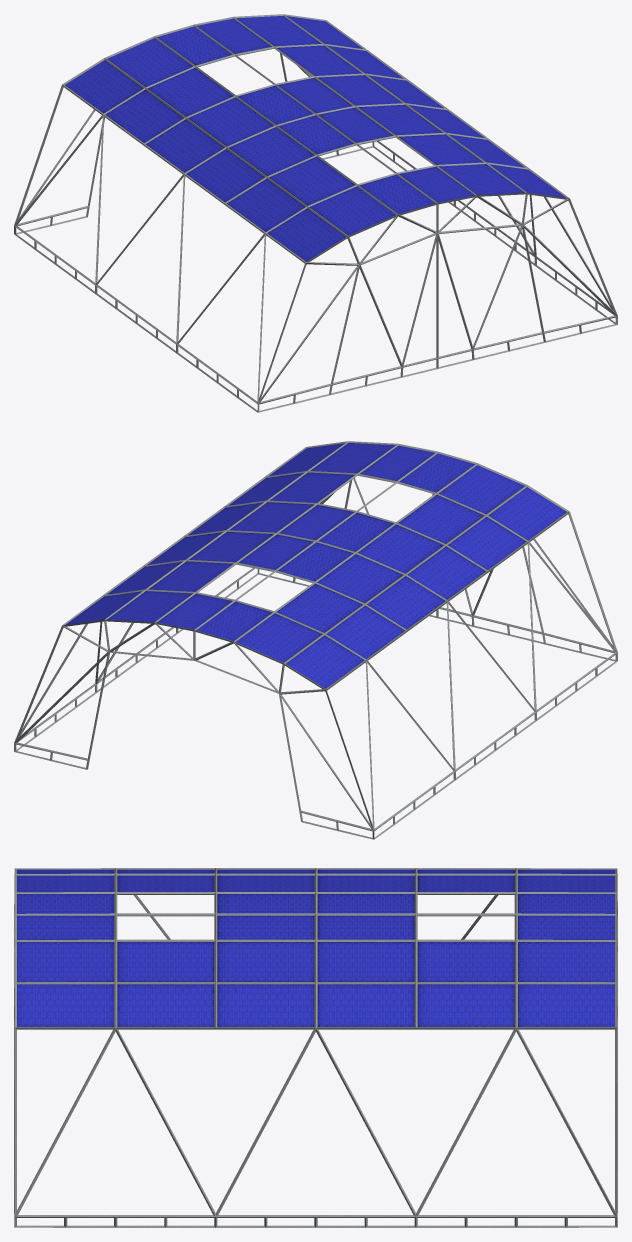
3 views of the same model, one above another, from view 1: azimuth 30°, elevation 25°; view 2: azimuth 150°, elevation 25°; view 3: azimuth 270°, elevation 25° (orthographic). The views are drawn at different scales.
Parts seen in each view (by area): view 1: TentCanopy_0; view 2: TentCanopy_0; view 3: TentCanopy_0.
Boxes of the visible parts, x1=… form: TentCanopy_0: x1=14, y1=14, x2=617, y2=412; TentCanopy_0: x1=14, y1=441, x2=617, y2=839; TentCanopy_0: x1=14, y1=868, x2=617, y2=1227.
Size of the model in its own units: 4117 by 1813 by 4827.
Materials: 1 (1 with a texture image).
